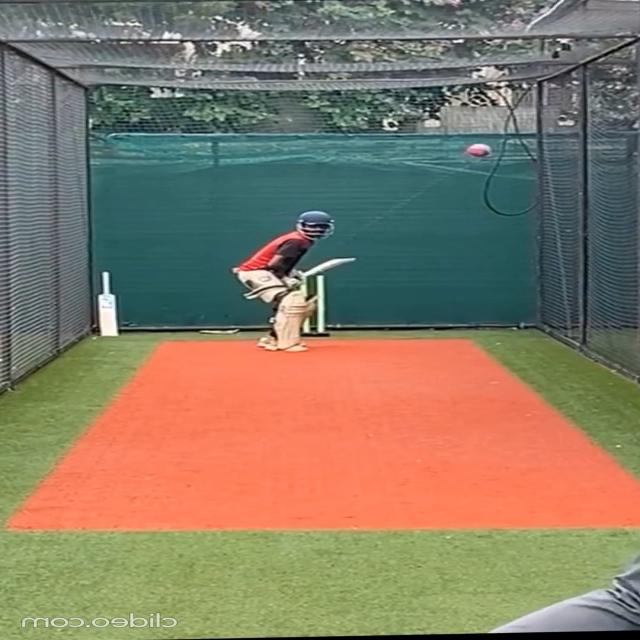ball: (464, 141, 494, 159)
stump: (294, 272, 332, 338)
